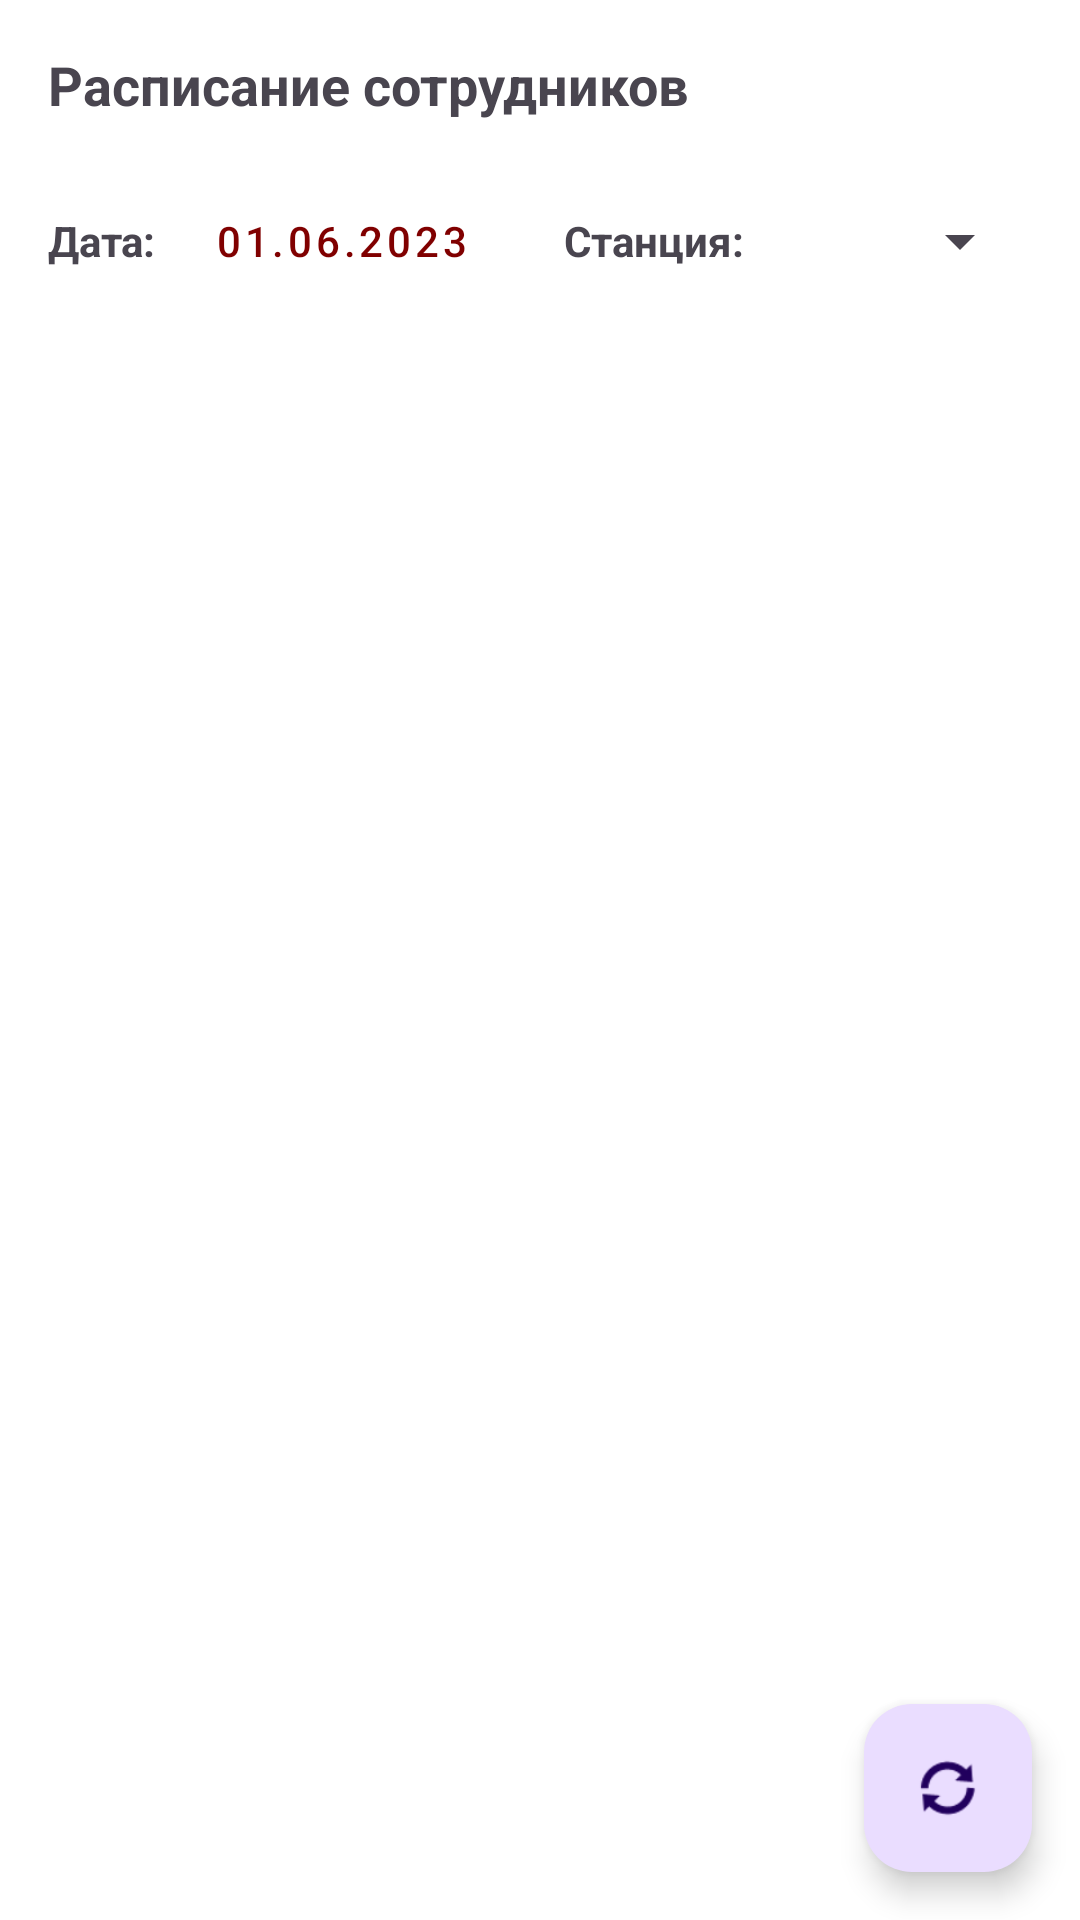

Where icons sit on this 1080px x 1920px app screen, as (left=x1, top=y1, right=x2, bottom=y2):
Обновить: (left=864, top=1704, right=1032, bottom=1872)
